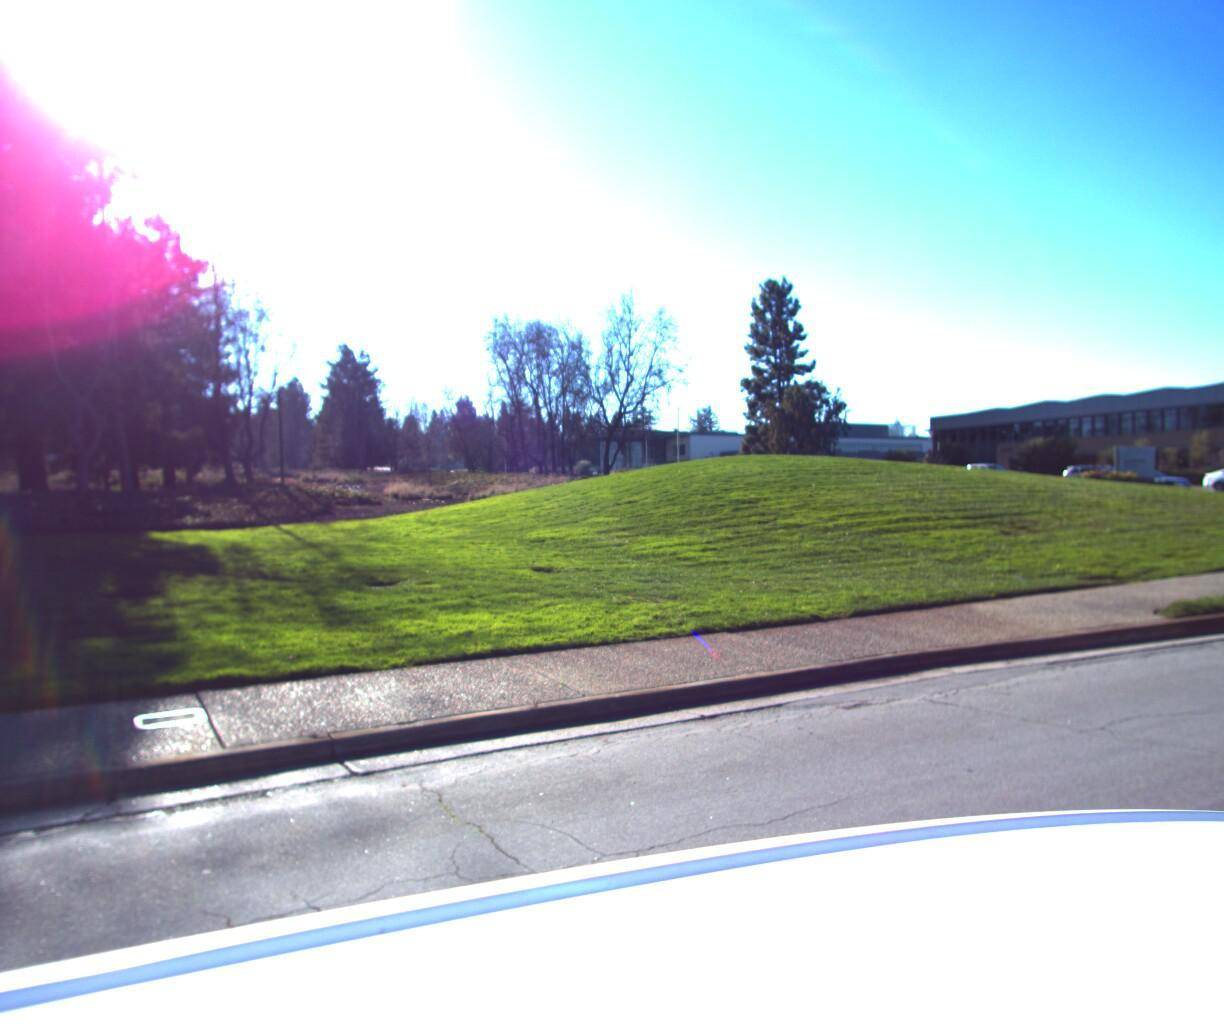car: (1198, 459, 1224, 487)
